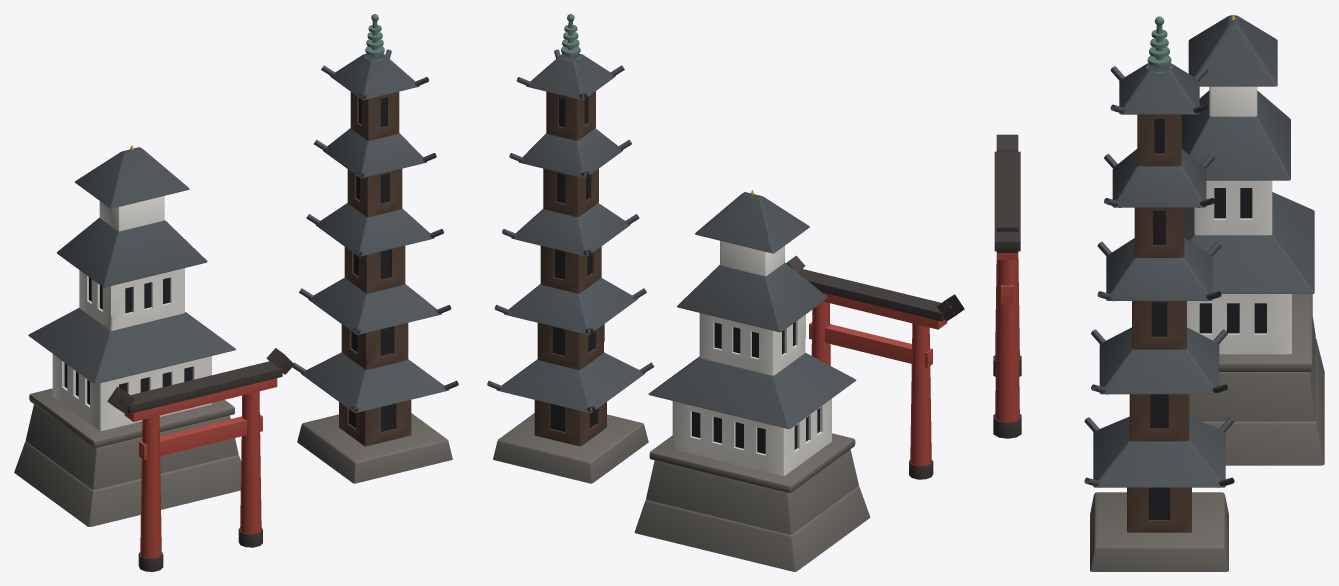
File: landmark_tokyo_solo.glb
3 views of the same model, side by side, from view 1: azimuth 30°, elevation 25°; view 2: azimuth 150°, elevation 25°; view 3: azimuth 270°, elevation 25° (orthographic). The views are drawn at different scales.
Parts seen in each view (by area): view 1: Pagoda_Eaves, Keep_Roofs, Keep_Foundation, Torii_Gate, Pagoda_Wood, Keep_Plaster, Pagoda_Base, Pagoda_Finial; view 2: Keep_Foundation, Pagoda_Eaves, Keep_Roofs, Keep_Plaster, Pagoda_Wood, Torii_Gate, Pagoda_Base; view 3: Pagoda_Eaves, Keep_Roofs, Keep_Foundation, Pagoda_Wood, Keep_Plaster, Pagoda_Base, Torii_Gate, Pagoda_Finial.
Part boxes in pixels (x1=…): Pagoda_Eaves: x1=292, y1=49, x2=458, y2=413; Keep_Roofs: x1=28, y1=145, x2=235, y2=384; Keep_Foundation: x1=14, y1=388, x2=240, y2=526; Torii_Gate: x1=107, y1=348, x2=294, y2=571; Pagoda_Wood: x1=339, y1=91, x2=411, y2=446; Keep_Plaster: x1=52, y1=196, x2=211, y2=430; Pagoda_Base: x1=297, y1=413, x2=452, y2=483; Pagoda_Finial: x1=364, y1=14, x2=385, y2=61; Keep_Foundation: x1=634, y1=433, x2=870, y2=571; Pagoda_Eaves: x1=487, y1=49, x2=654, y2=413; Keep_Roofs: x1=648, y1=190, x2=856, y2=428; Keep_Plaster: x1=672, y1=240, x2=831, y2=475; Pagoda_Wood: x1=534, y1=91, x2=606, y2=446; Torii_Gate: x1=786, y1=255, x2=964, y2=479; Pagoda_Base: x1=493, y1=413, x2=648, y2=483; Pagoda_Eaves: x1=1084, y1=63, x2=1234, y2=487; Keep_Roofs: x1=1181, y1=14, x2=1314, y2=293; Keep_Foundation: x1=1189, y1=294, x2=1324, y2=465; Pagoda_Wood: x1=1127, y1=114, x2=1191, y2=532; Keep_Plaster: x1=1187, y1=86, x2=1291, y2=354; Pagoda_Base: x1=1090, y1=492, x2=1228, y2=571; Torii_Gate: x1=993, y1=134, x2=1021, y2=438; Pagoda_Finial: x1=1146, y1=16, x2=1172, y2=73.
Bounding box in the file's own units: 1.22 × 1.34 × 0.7623.
